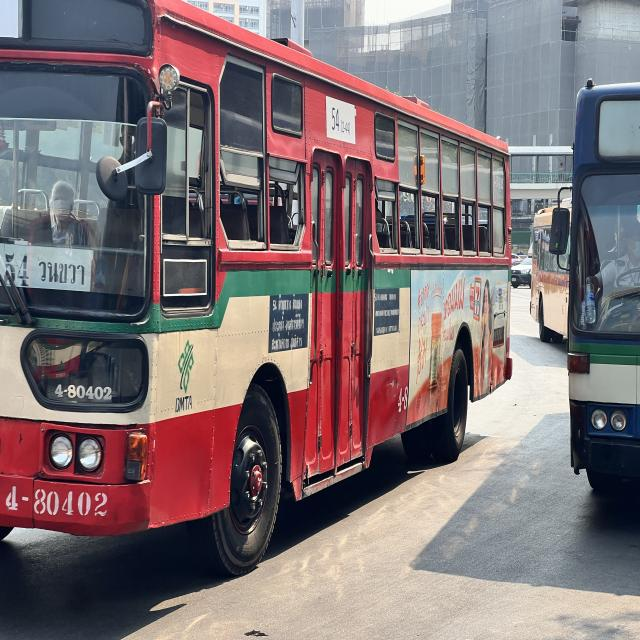BMTA-bus: (0, 0, 514, 578), (566, 79, 640, 525)
Destination-Sign-Normal: (2, 241, 97, 295)
